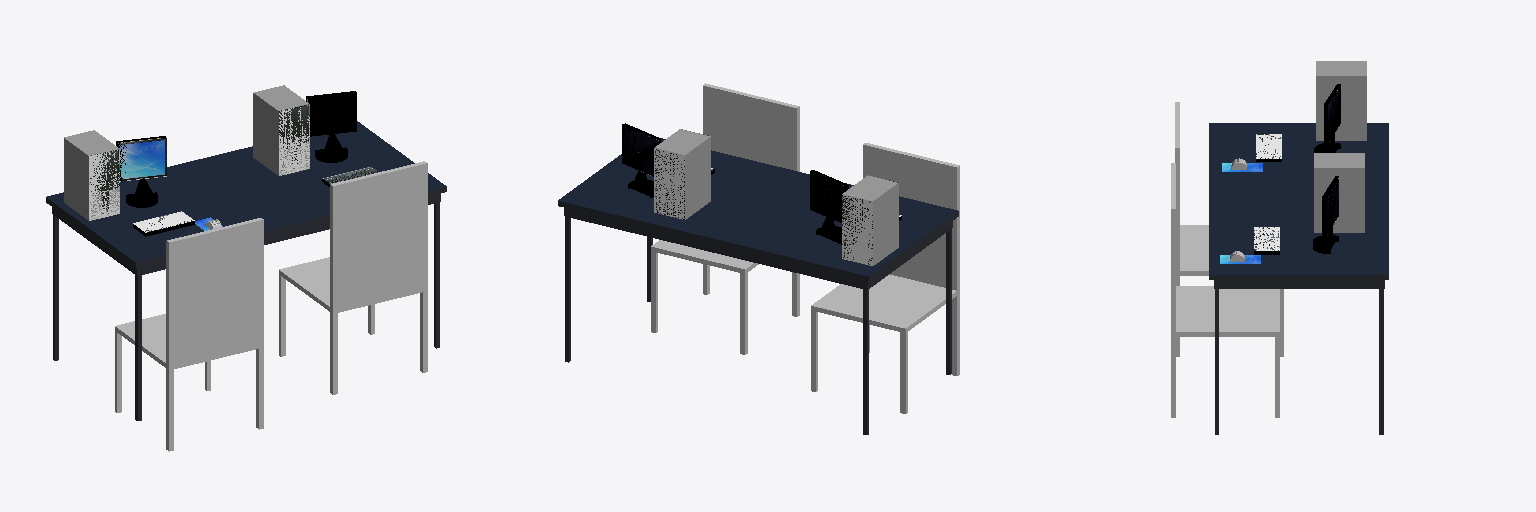
3 renders of one model, left to right at view 1: azimuth 30°, elevation 25°; view 2: azimuth 150°, elevation 25°; view 3: azimuth 270°, elevation 25°, orthographic.
Visible parts, largest first — view 1: Mesh28 Model, Mesh27 chair_skp2 Model, Mesh26 chair_skp1 Model, Mesh17 computer__1_2 Model, Mesh6 computer__1_1 Model, Mesh16 computer__1_2 Model, Mesh9 computer__1_1 Model, Mesh1 Leg1 Model, Mesh11 computer__1_1 Model, Mesh2 Leg2 Model, Mesh3 Leg3 Model, Mesh7 computer__1_1 Model (+1 smaller); view 2: Mesh28 Model, Mesh26 chair_skp1 Model, Mesh27 chair_skp2 Model, Mesh17 computer__1_2 Model, Mesh6 computer__1_1 Model, Mesh5 computer__1_1 Model, Mesh16 computer__1_2 Model, Mesh3 Leg3 Model, Mesh4 Leg4 Model, Mesh1 Leg1 Model, Mesh21 computer__1_2 Model; view 3: Mesh28 Model, Mesh27 chair_skp2 Model, Mesh17 computer__1_2 Model, Mesh6 computer__1_1 Model, Mesh26 chair_skp1 Model, Mesh16 computer__1_2 Model, Mesh5 computer__1_1 Model, Mesh4 Leg4 Model, Mesh7 computer__1_1 Model, Mesh18 computer__1_2 Model, Mesh2 Leg2 Model.
Boxes of the visible parts, <box> form: Mesh28 Model: <box>46,121,446,275</box>; Mesh27 chair_skp2 Model: <box>279,161,427,394</box>; Mesh26 chair_skp1 Model: <box>115,218,263,451</box>; Mesh17 computer__1_2 Model: <box>253,85,309,175</box>; Mesh6 computer__1_1 Model: <box>64,130,119,220</box>; Mesh16 computer__1_2 Model: <box>306,91,356,162</box>; Mesh9 computer__1_1 Model: <box>118,137,166,181</box>; Mesh1 Leg1 Model: <box>135,275,141,420</box>; Mesh11 computer__1_1 Model: <box>89,149,119,219</box>; Mesh2 Leg2 Model: <box>434,203,439,348</box>; Mesh3 Leg3 Model: <box>53,215,58,360</box>; Mesh7 computer__1_1 Model: <box>133,211,194,236</box>; Mesh28 Model: <box>558,138,958,289</box>; Mesh26 chair_skp1 Model: <box>811,143,959,413</box>; Mesh27 chair_skp2 Model: <box>651,83,799,354</box>; Mesh17 computer__1_2 Model: <box>654,129,710,219</box>; Mesh6 computer__1_1 Model: <box>842,175,898,265</box>; Mesh5 computer__1_1 Model: <box>810,170,848,243</box>; Mesh16 computer__1_2 Model: <box>622,123,660,197</box>; Mesh3 Leg3 Model: <box>863,289,868,434</box>; Mesh4 Leg4 Model: <box>565,217,570,362</box>; Mesh1 Leg1 Model: <box>946,229,951,374</box>; Mesh21 computer__1_2 Model: <box>622,126,658,176</box>; Mesh28 Model: <box>1209,123,1388,288</box>; Mesh27 chair_skp2 Model: <box>1171,163,1279,417</box>; Mesh17 computer__1_2 Model: <box>1314,153,1364,232</box>; Mesh6 computer__1_1 Model: <box>1316,61,1366,140</box>; Mesh26 chair_skp1 Model: <box>1175,102,1283,356</box>; Mesh16 computer__1_2 Model: <box>1313,176,1338,253</box>; Mesh5 computer__1_1 Model: <box>1314,84,1340,152</box>; Mesh4 Leg4 Model: <box>1379,289,1383,434</box>; Mesh7 computer__1_1 Model: <box>1256,134,1281,161</box>; Mesh18 computer__1_2 Model: <box>1254,227,1279,254</box>; Mesh2 Leg2 Model: <box>1215,289,1218,434</box>.
Size of the model in its own units: 60 by 45.29 by 36.41.
Materials: 14 (7 with a texture image).